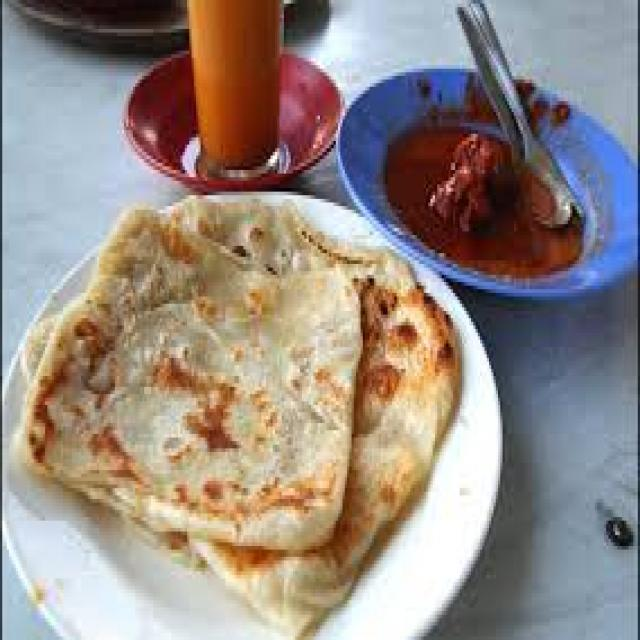Paratha: (138, 204, 456, 588), (6, 254, 354, 516)
